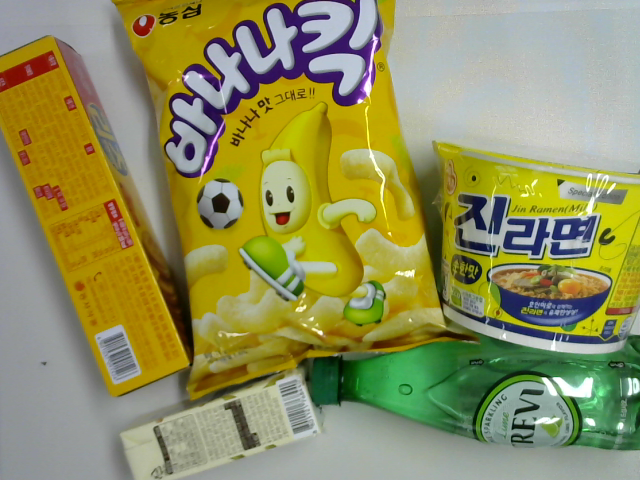99.89_Soymilk: (118, 359, 328, 480)
Banana_Kick: (109, 1, 482, 403)
Jinlamyeon_Mild_Taste_Large_Cup: (430, 136, 640, 359)
Ritz_Sand_Cracker: (1, 35, 198, 403)
Treviraim_500ml: (308, 333, 640, 453)
